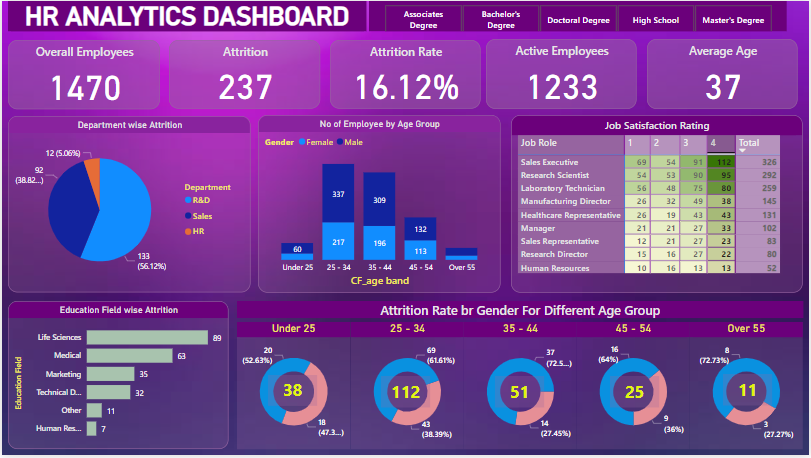

Layout of this report page (visuals, bound fields, positions):
{"tool":"powerbi","page":{"name":"Page 1","canvas":[1280,720],"ordinal":0},"visuals":[{"type":"card","title":"Overall Employees","fields":{"Values":["Sum(HR data.Employee Count)"]},"box":[9.6,62.5,241.3,109.6],"z":0},{"type":"card","title":"Attrition","fields":{"Values":["Sum(HR data.Attrition Count)"]},"box":[265.4,62.5,240.4,108.7],"z":1000},{"type":"card","title":"Attrition Rate","fields":{"Values":["HR data.Attrition Rate"]},"box":[520.2,62.5,239.4,108.7],"z":2000},{"type":"card","title":"Active Employees","fields":{"Values":["HR data.Active Employees"]},"box":[768.3,60.6,239.4,110.6],"z":3000},{"type":"card","title":"Average Age","fields":{"Values":["Avg(HR data.Age)"]},"box":[1023.1,60.6,239.4,110.6],"z":4000},{"type":"pieChart","title":"Department wise Attrition","fields":{"Category":["HR data.Department"],"Y":["Sum(HR data.Attrition Count)"]},"box":[9.8,182,385.2,280.3],"z":5000},{"type":"columnChart","title":"No of Employee by Age Group","fields":{"Category":["HR data.CF_age band"],"Y":["Sum(HR data.Employee Count)"],"Series":["HR data.Gender"]},"box":[405.8,181.7,384.6,281.7],"z":6000},{"type":"pivotTable","title":"Job Satisfaction Rating","fields":{"Rows":["HR data.Job Role"],"Columns":["HR data.Job Satisfaction"],"Values":["Sum(HR data.Employee Count)"]},"box":[807.7,180.8,462.5,281.7],"z":7000},{"type":"barChart","title":"Education Field wise Attrition","fields":{"Category":["HR data.Education Field"],"Y":["Sum(HR data.Attrition Count)"]},"box":[9.6,476.6,350,235.1],"z":8000},{"type":"textbox","title":"Attrition Rate br Gender For Different Age Group","box":[372.3,476.6,898.9,26.6],"z":9000},{"type":"donutChart","title":"Under 25","fields":{"Category":["HR data.Gender"],"Y":["Sum(HR data.Attrition Count)"],"Series":["HR data.CF_age band"]},"box":[372.3,509.6,179.8,202.1],"z":10000},{"type":"donutChart","title":"25 - 34","fields":{"Category":["HR data.Gender"],"Y":["Sum(HR data.Attrition Count)"],"Series":["HR data.CF_age band"]},"box":[553.2,509.6,178.7,202.1],"z":11000},{"type":"donutChart","title":"35 - 44","fields":{"Category":["HR data.Gender"],"Y":["Sum(HR data.Attrition Count)"],"Series":["HR data.CF_age band"]},"box":[733,509.6,178.7,202.1],"z":12000},{"type":"donutChart","title":"45 - 54","fields":{"Category":["HR data.Gender"],"Y":["Sum(HR data.Attrition Count)"],"Series":["HR data.CF_age band"]},"box":[912.8,509.6,178.7,202.1],"z":13000},{"type":"donutChart","title":"Over 55","fields":{"Category":["HR data.Gender"],"Y":["Sum(HR data.Attrition Count)"],"Series":["HR data.CF_age band"]},"box":[1092.6,509.6,178.7,202.1],"z":14000},{"type":"card","fields":{"Values":["Sum(HR data.Attrition Count)"]},"box":[422.2,593.8,77.8,49.4],"z":15000},{"type":"card","fields":{"Values":["Sum(HR data.Attrition Count)"]},"box":[601.9,594.4,77.8,50],"z":16000},{"type":"card","fields":{"Values":["Sum(HR data.Attrition Count)"]},"box":[783.3,594.4,77.8,50],"z":17000},{"type":"card","fields":{"Values":["Sum(HR data.Attrition Count)"]},"box":[964.8,594.4,77.8,50],"z":18000},{"type":"card","fields":{"Values":["Sum(HR data.Attrition Count)"]},"box":[1144.4,592.6,77.8,50],"z":19000},{"type":"textbox","title":"HR ANALYTICS DASHBOARD","box":[9.3,0,568.5,48.1],"z":20000},{"type":"slicer","fields":{"Values":["HR data.Education"]},"box":[583.3,0,663,48.1],"z":21000}]}

Visuals, with their boxes in screenshot pixels (x1, y1, x2, y2), scaled from the page's 1280x720 canvas onto the 811x458 screenshot:
"Overall Employees" card: [6, 40, 159, 109]
"Attrition" card: [168, 40, 320, 109]
"Attrition Rate" card: [330, 40, 481, 109]
"Active Employees" card: [487, 39, 638, 109]
"Average Age" card: [648, 39, 800, 109]
"Department wise Attrition" pieChart: [6, 116, 250, 294]
"No of Employee by Age Group" columnChart: [257, 116, 501, 295]
"Job Satisfaction Rating" pivotTable: [512, 115, 805, 294]
"Education Field wise Attrition" barChart: [6, 303, 228, 453]
"Attrition Rate br Gender For Different Age Group" textbox: [236, 303, 805, 320]
"Under 25" donutChart: [236, 324, 350, 453]
"25 - 34" donutChart: [351, 324, 464, 453]
"35 - 44" donutChart: [464, 324, 578, 453]
"45 - 54" donutChart: [578, 324, 692, 453]
"Over 55" donutChart: [692, 324, 805, 453]
card - Sum(HR data.Attrition Count): [268, 378, 317, 409]
card - Sum(HR data.Attrition Count): [381, 378, 431, 410]
card - Sum(HR data.Attrition Count): [496, 378, 546, 410]
card - Sum(HR data.Attrition Count): [611, 378, 661, 410]
card - Sum(HR data.Attrition Count): [725, 377, 774, 409]
"HR ANALYTICS DASHBOARD" textbox: [6, 0, 366, 31]
slicer - HR data.Education: [370, 0, 790, 31]
